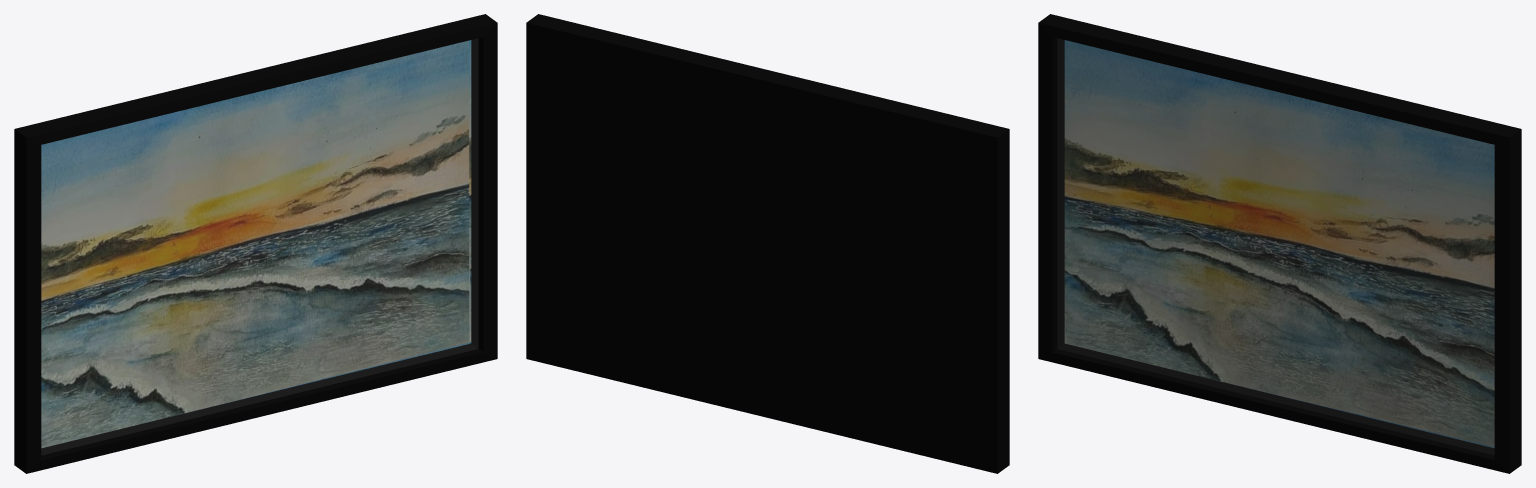
File: Sunset Scenerie.glb
3 views of the same model, side by side, from view 1: azimuth 30°, elevation 25°; view 2: azimuth 150°, elevation 25°; view 3: azimuth 330°, elevation 25° (orthographic).
Parts seen in each view (by area): view 1: Cube; view 2: Cube; view 3: Cube.
Boxes of the visible parts, box(x1,y1,x2,y2) form: Cube: box(14, 14, 497, 473); Cube: box(526, 14, 1009, 473); Cube: box(1038, 14, 1521, 473).
Bounding box in the file's own units: 0.44 × 0.3 × 0.02.
3 materials, 1 textured.
